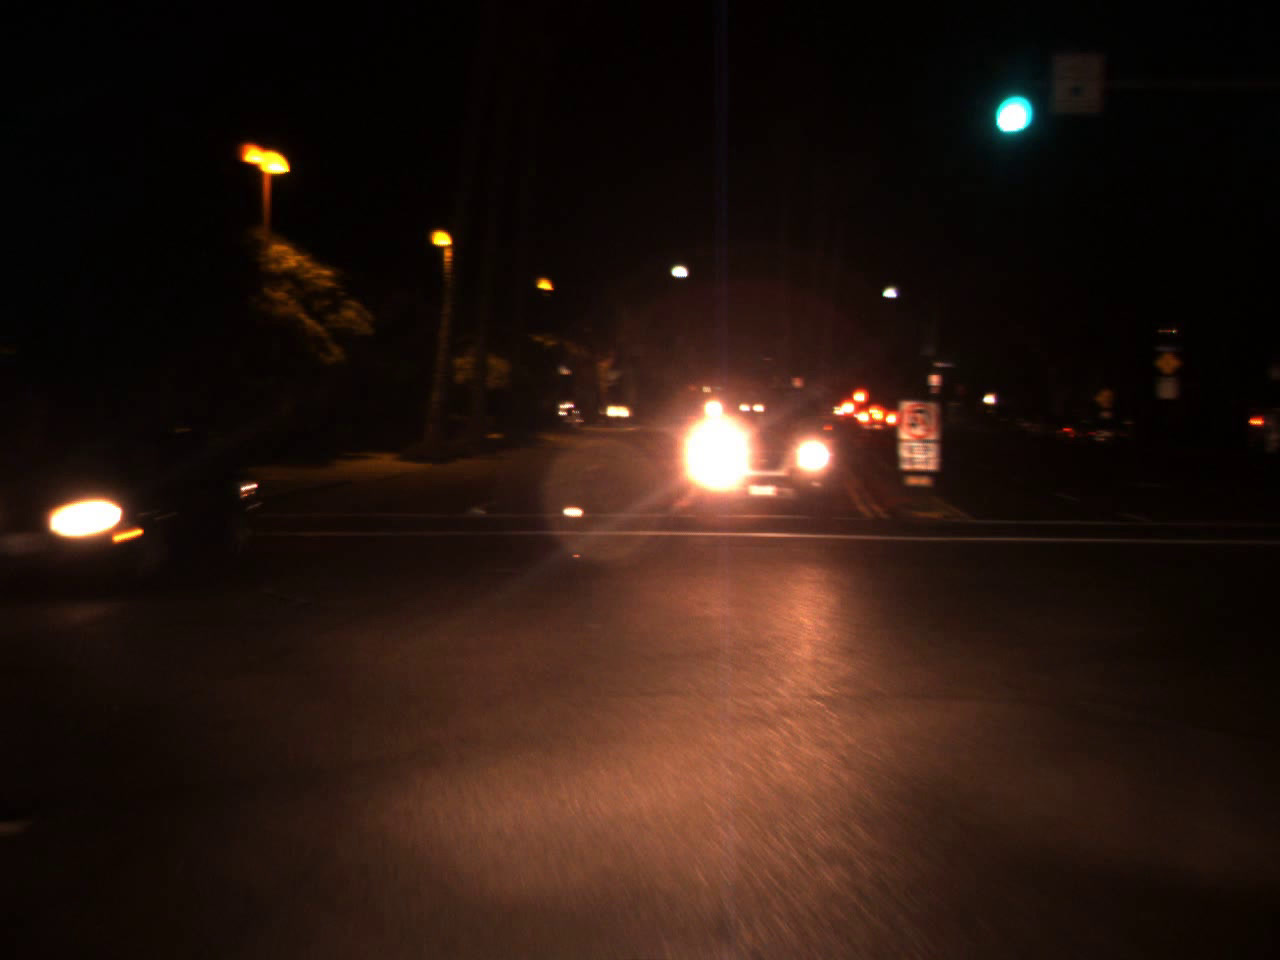go: (989, 61, 1030, 147)
